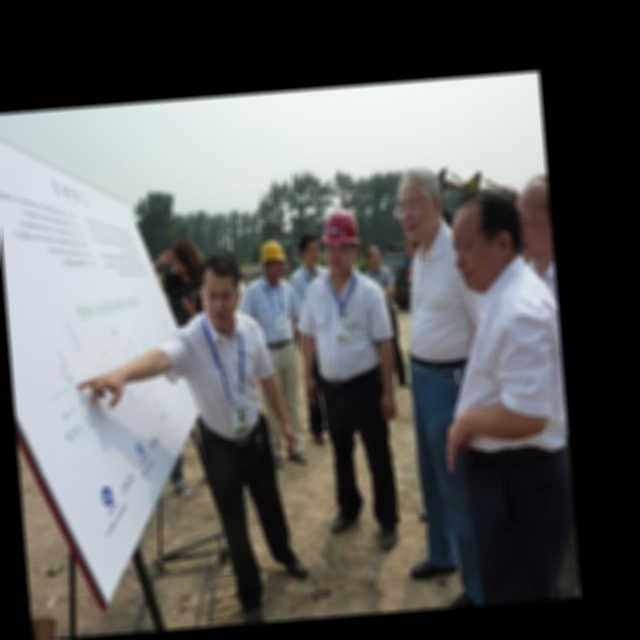Con_Casco: (319, 208, 360, 272), (260, 239, 287, 281)
Sin_Casco_Mascarrilla: (393, 166, 446, 244), (197, 251, 244, 326)
